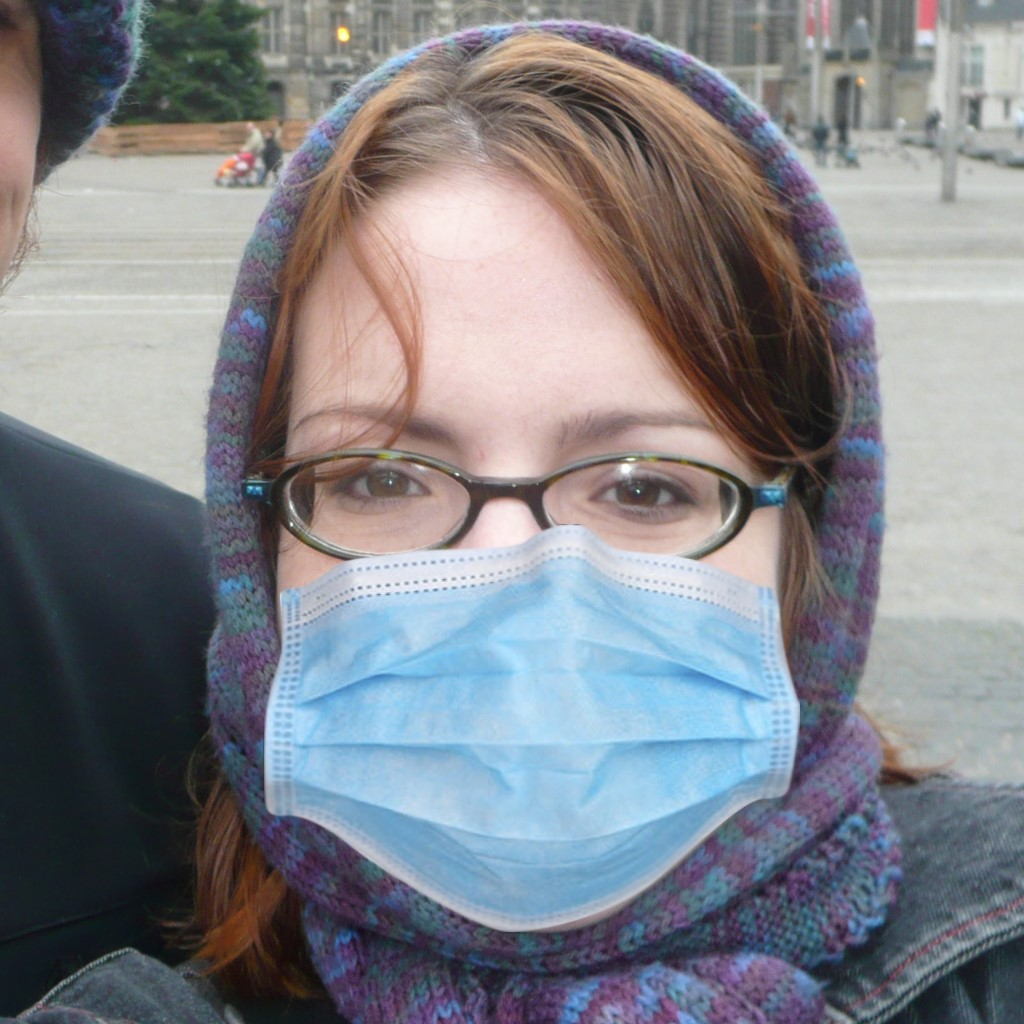con_mascara: (248, 113, 833, 941)
